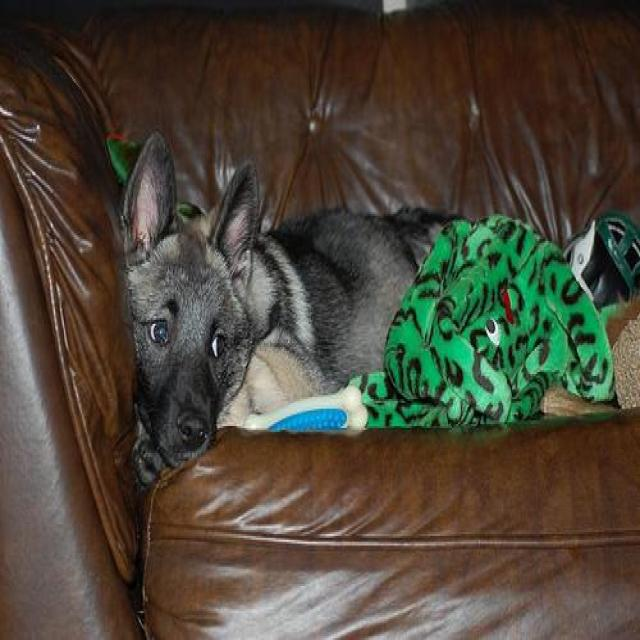dog: (109, 100, 640, 535)
